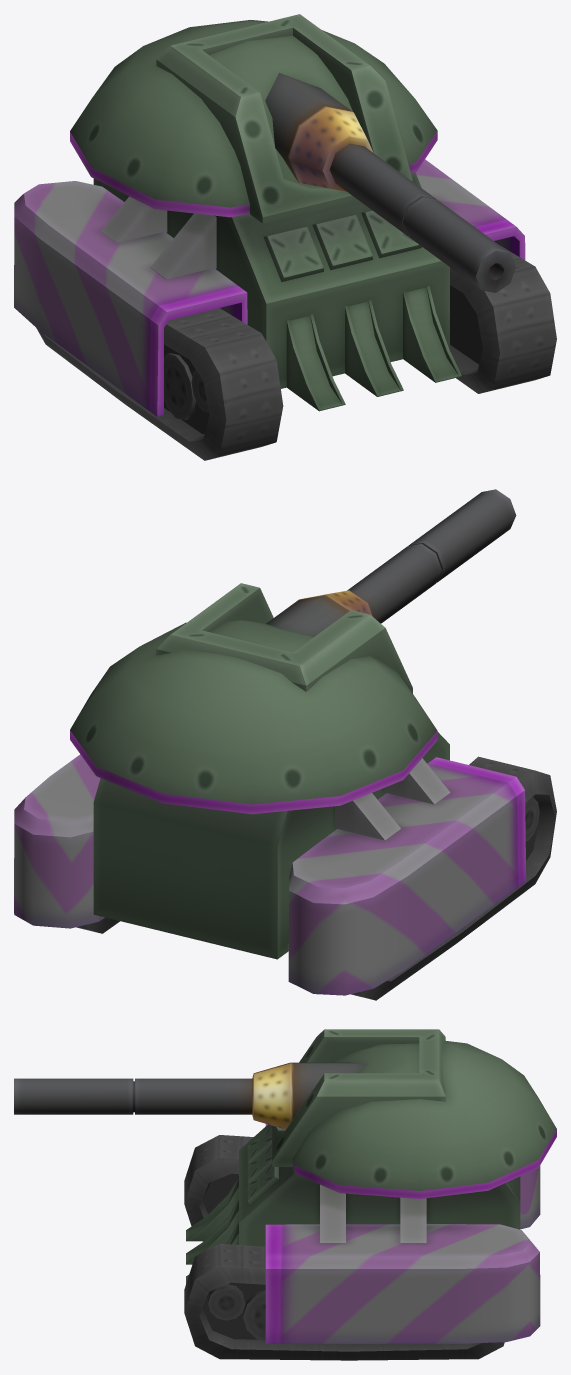
Rendered from ChMD_BossTank_01.fbx.
3 views of the same model, one above another, from view 1: azimuth 30°, elevation 25°; view 2: azimuth 150°, elevation 25°; view 3: azimuth 270°, elevation 25° (orthographic). The views are drawn at different scales.
Visible parts, largest first — view 1: Body, Head, Turret; view 2: Body, Head, Turret; view 3: Body, Head, Turret.
Boxes of the visible parts, x1,y1,x2,y2 form: Body: (14,159,556,460); Head: (70,14,437,223); Turret: (265,72,516,292); Body: (14,732,556,1000); Head: (70,583,437,814); Turret: (266,489,516,636); Body: (184,1124,540,1360); Head: (272,1029,556,1198); Turret: (14,1062,367,1129).
Bounding box in the file's own units: 187 × 143 × 293.
Materials: 1 (1 with a texture image).
